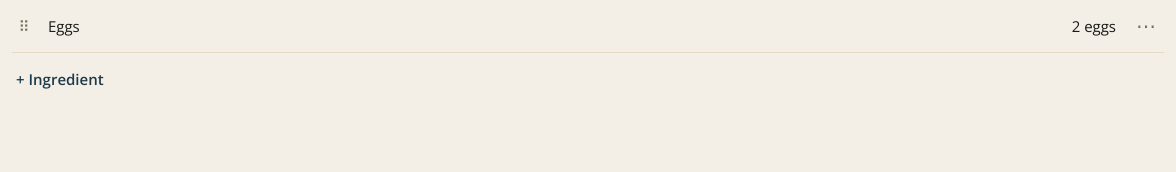
Test case: IngredientList author mode: the unit of a line › Scout_IsToldInPlace_WhenTheTypedUnitCannotBeConverted
Step 1. Click the button "⋯" → {"x": 1146, "y": 26}, box [1128, 8, 1164, 44]
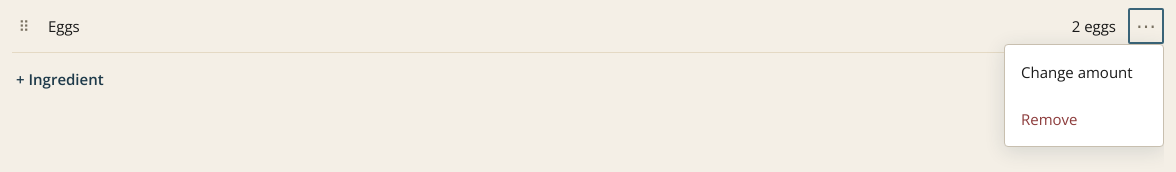
Step 2. Click the button "Change amount" → {"x": 1084, "y": 72}, box [1005, 49, 1163, 96]
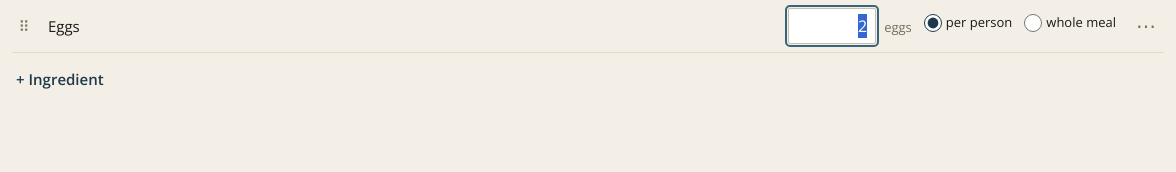
Step 3. Replace the text in the field named "Amount per person of Eggs" with "4 cups" → {"x": 832, "y": 26}, box [788, 8, 876, 44]
Then press Enter
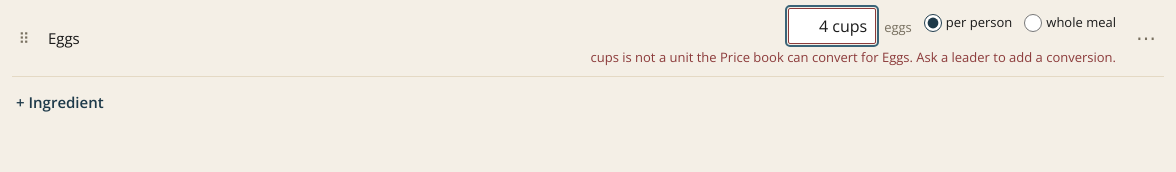
Expected: the message shows "cups is not a unit the Price book can convert for Eggs. Ask a leader to add a conversion.", [590, 48, 1116, 66]
